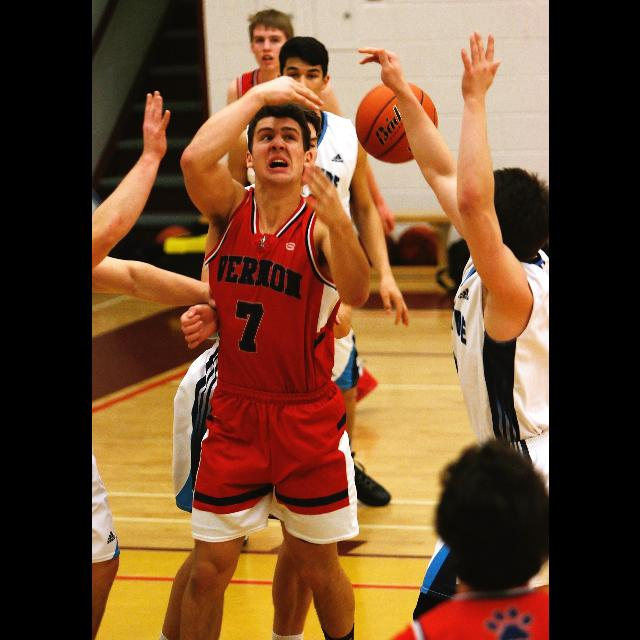head: (468, 168, 546, 262), (243, 101, 314, 189), (245, 102, 313, 186), (278, 36, 330, 108), (246, 9, 294, 72), (262, 168, 302, 206)
person: (207, 28, 415, 516), (220, 4, 398, 426)
